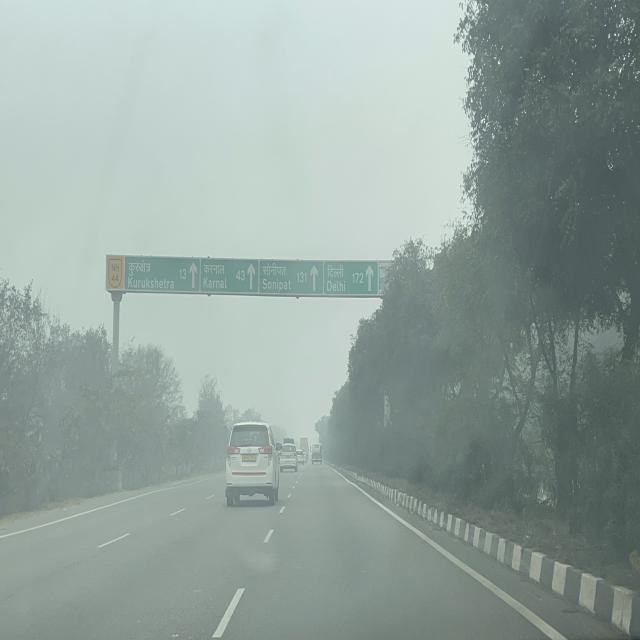GENERAL: (105, 255, 403, 298)
